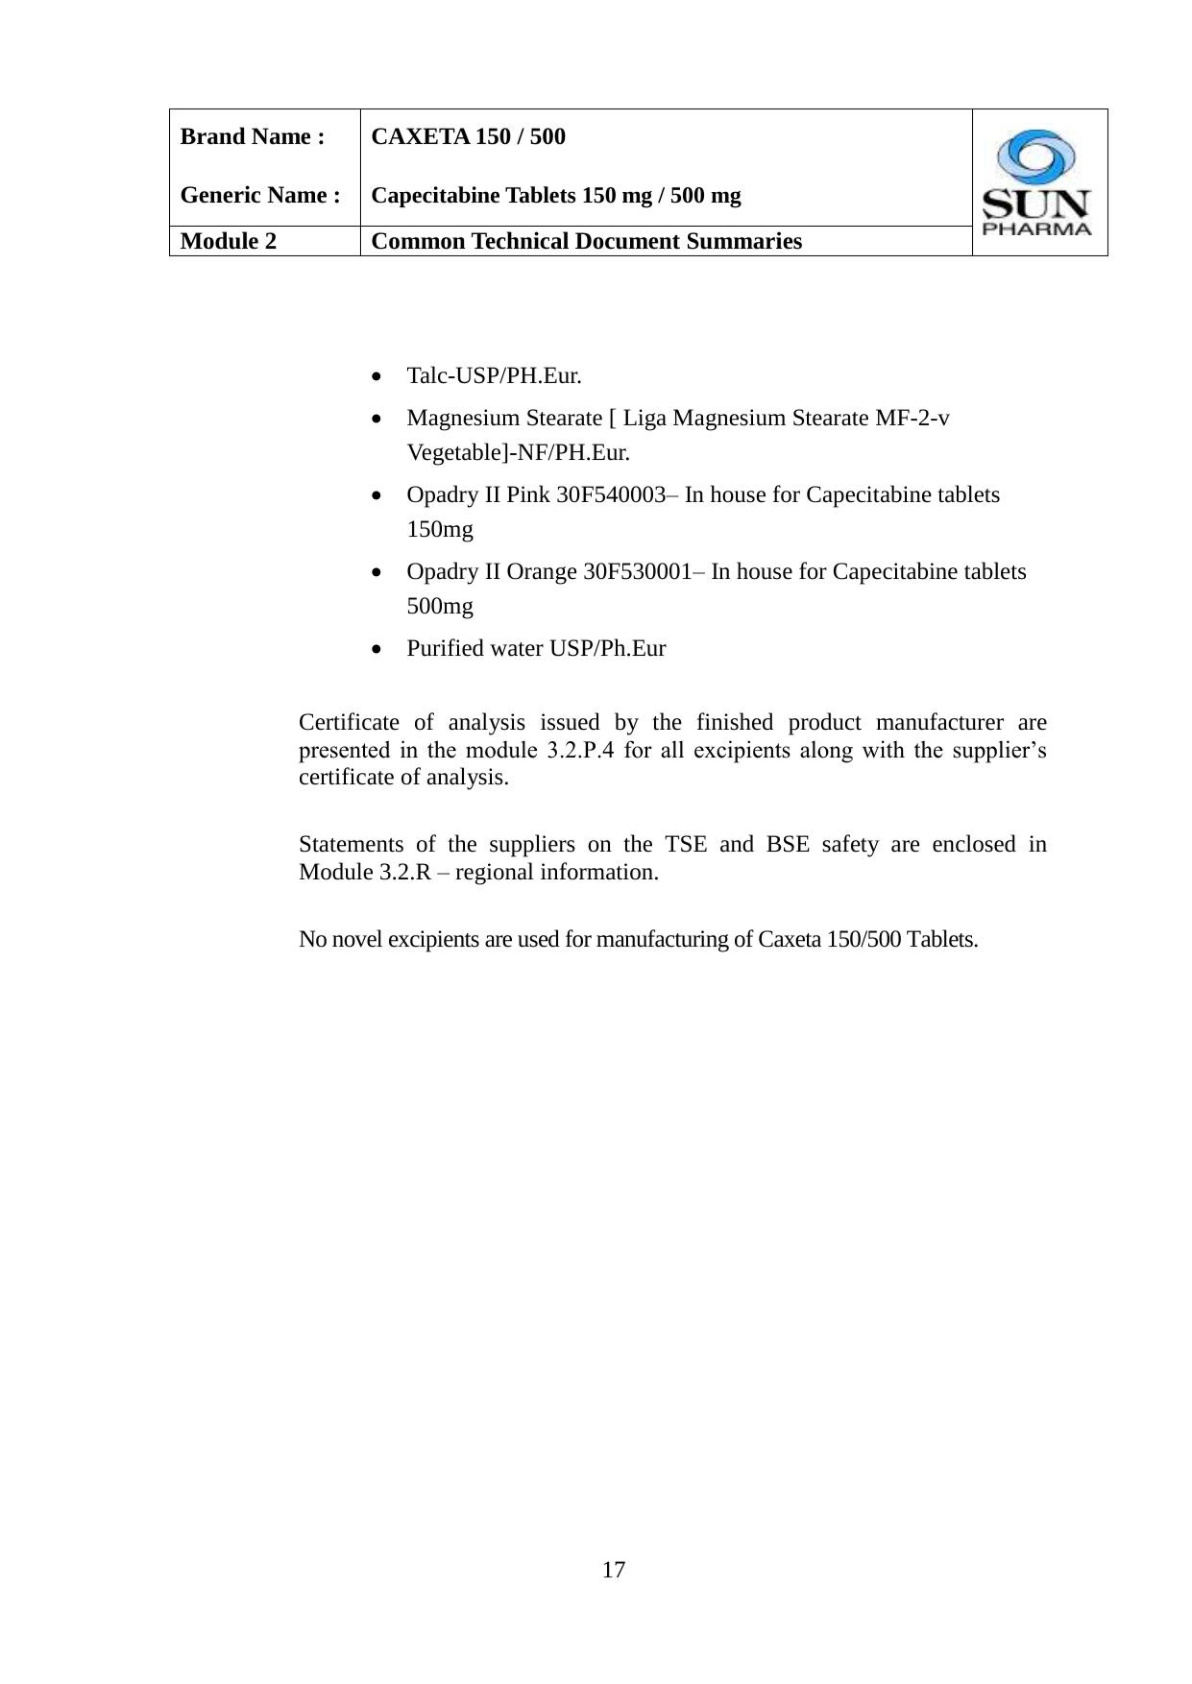merged_cells: (166, 104, 1109, 259)
